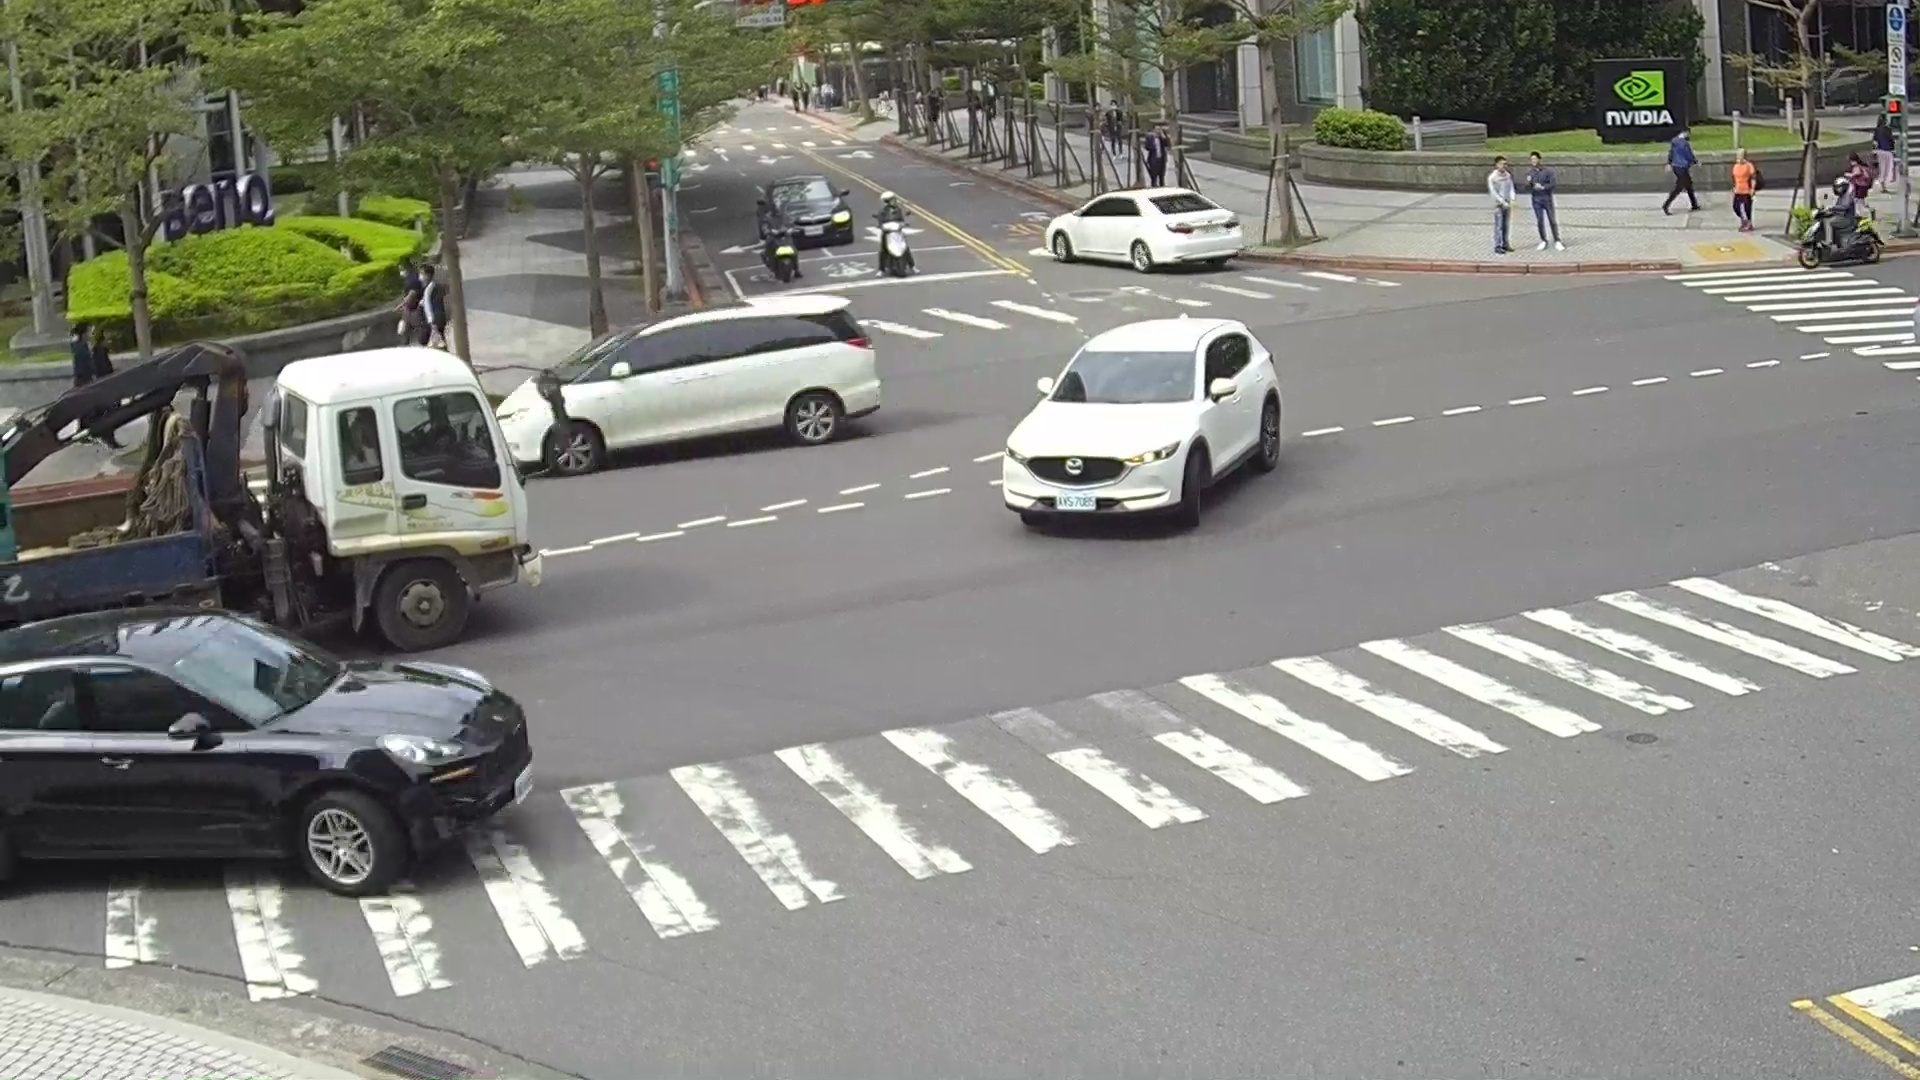bike: (1793, 204, 1882, 270), (874, 220, 918, 278), (765, 231, 805, 280)
pedestrian: (1815, 168, 1878, 262), (1522, 150, 1563, 252), (397, 264, 442, 348), (1661, 126, 1702, 213), (1487, 156, 1518, 252), (420, 268, 451, 348), (1730, 150, 1762, 230), (879, 192, 912, 255), (1837, 152, 1875, 200), (69, 325, 94, 390), (1143, 131, 1165, 186), (766, 203, 794, 239)
vehicle: (9, 339, 530, 666), (1, 605, 533, 897), (486, 296, 884, 476), (1004, 316, 1278, 529), (1042, 188, 1244, 271), (754, 174, 852, 254)
